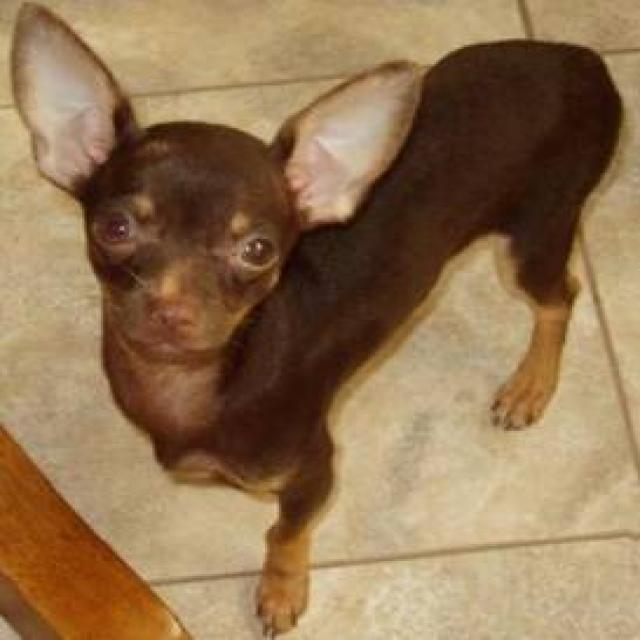dog-chihuahua: (9, 2, 624, 636)
